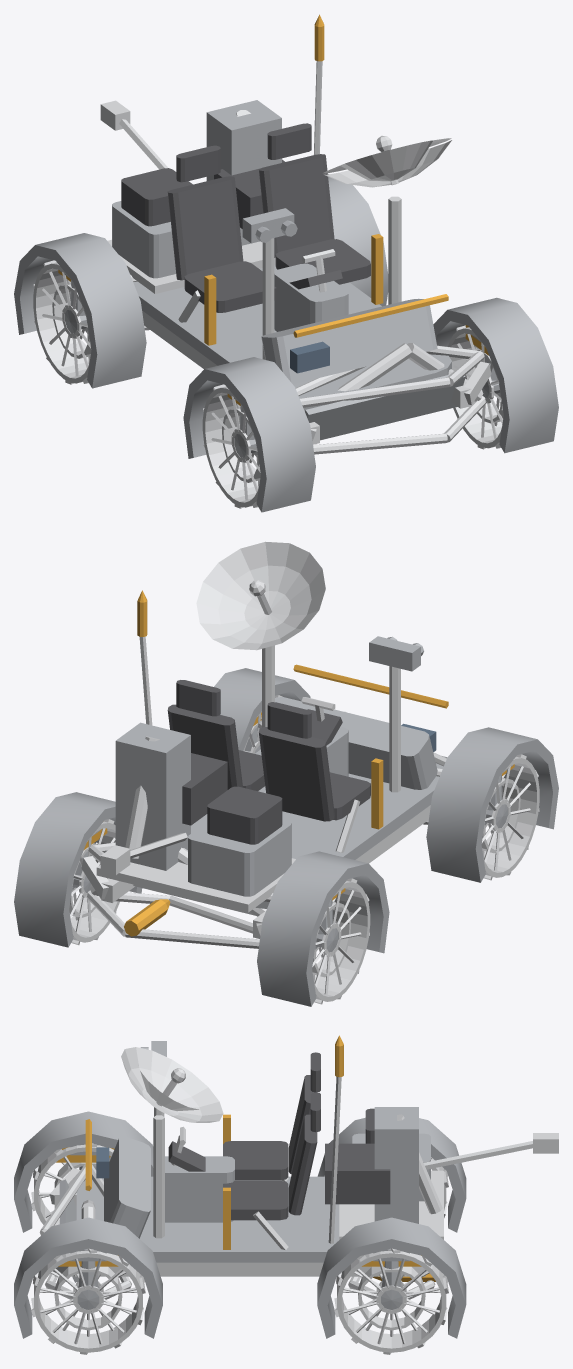
Rendered from open-rover-unpressuris-3741288d.glb.
3 views of the same model, one above another, from view 1: azimuth 30°, elevation 25°; view 2: azimuth 150°, elevation 25°; view 3: azimuth 270°, elevation 25° (orthographic). The views are drawn at different scales.
Parts seen in each view (by area): view 1: open-rover-unpressurised-science, wheel-front-left, wheel-rear-left, antenna-dish, wheel-front-right, camera, boom-magnetometer; view 2: open-rover-unpressurised-science, antenna-dish, wheel-front-left, wheel-rear-left, wheel-rear-right, camera, boom-magnetometer; view 3: open-rover-unpressurised-science, wheel-rear-right, wheel-front-right, antenna-dish, wheel-front-left, boom-magnetometer, steer-front-right, steer-rear-right.
Boxes of the visible parts, x1=… form: open-rover-unpressurised-science: x1=14, y1=14, x2=558, y2=512; wheel-front-left: x1=202, y1=384, x2=260, y2=508; wheel-rear-left: x1=33, y1=260, x2=91, y2=384; antenna-dish: x1=323, y1=135, x2=451, y2=187; wheel-front-right: x1=448, y1=325, x2=503, y2=449; camera: x1=242, y1=208, x2=297, y2=243; boom-magnetometer: x1=100, y1=100, x2=167, y2=169; open-rover-unpressurised-science: x1=14, y1=590, x2=558, y2=1006; antenna-dish: x1=196, y1=541, x2=325, y2=650; wheel-front-left: x1=481, y1=754, x2=539, y2=880; wheel-rear-left: x1=312, y1=878, x2=370, y2=1004; wheel-rear-right: x1=69, y1=819, x2=119, y2=945; camera: x1=369, y1=636, x2=423, y2=671; boom-magnetometer: x1=100, y1=832, x2=187, y2=875; open-rover-unpressurised-science: x1=14, y1=1035, x2=466, y2=1338; wheel-rear-right: x1=334, y1=1248, x2=448, y2=1354; wheel-front-right: x1=31, y1=1248, x2=145, y2=1354; antenna-dish: x1=121, y1=1047, x2=223, y2=1122; wheel-front-left: x1=31, y1=1143, x2=113, y2=1225; boom-magnetometer: x1=424, y1=1133, x2=558, y2=1169; steer-front-right: x1=70, y1=1249, x2=106, y2=1290; steer-rear-right: x1=373, y1=1248, x2=409, y2=1287.
Size of the model in its own units: 2.31 by 2.52 by 4.17.
